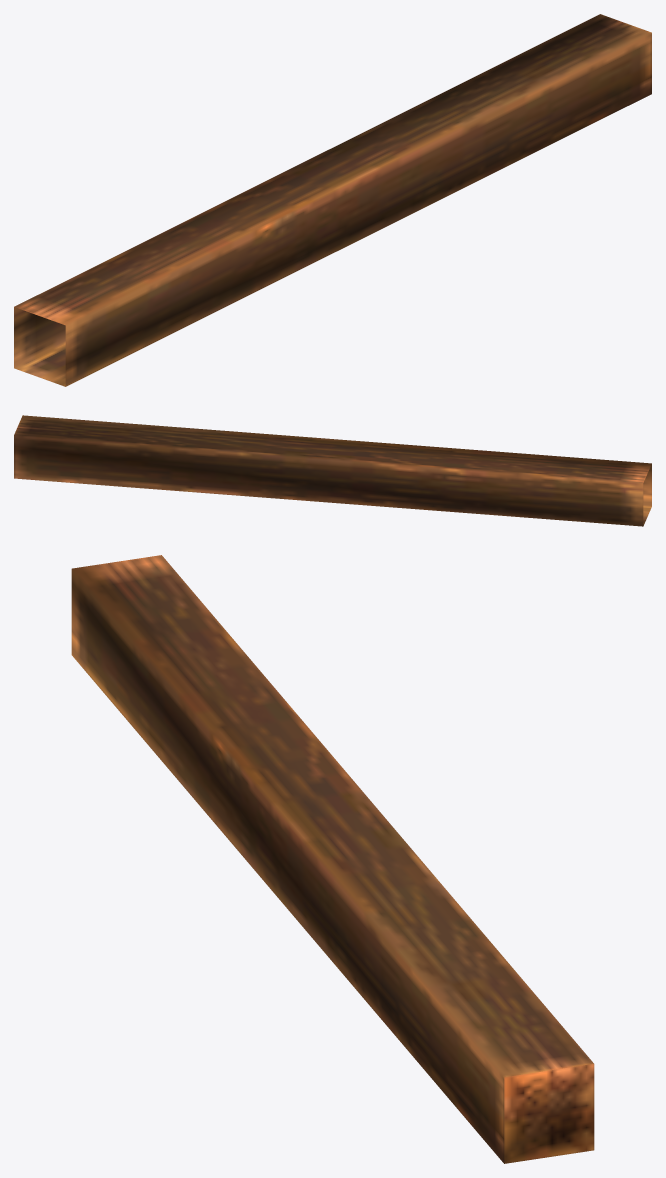
File: SWORDLIGHT20_JAILBRACE47.fbx
The picture shows the model from 3 angles, top to bottom: view 1: azimuth 30°, elevation 25°; view 2: azimuth 150°, elevation 25°; view 3: azimuth 270°, elevation 25°; orthographic projection. The views are drawn at different scales.
Visible parts, largest first — view 1: SWORDLIGHT20_JAILBRACE47; view 2: SWORDLIGHT20_JAILBRACE47; view 3: SWORDLIGHT20_JAILBRACE47.
Part boxes in pixels (left/top/right/bottom): SWORDLIGHT20_JAILBRACE47: left=14, top=14, right=651, bottom=386; SWORDLIGHT20_JAILBRACE47: left=14, top=415, right=651, bottom=526; SWORDLIGHT20_JAILBRACE47: left=71, top=555, right=594, bottom=1163.
Size of the model in its own units: 51729 by 4000 by 21871.
Materials: 1 (1 with a texture image).
